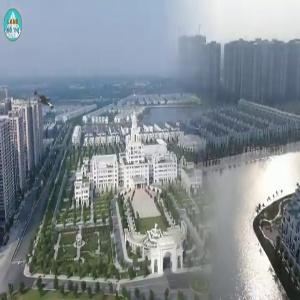drone: (19, 78, 70, 129)
